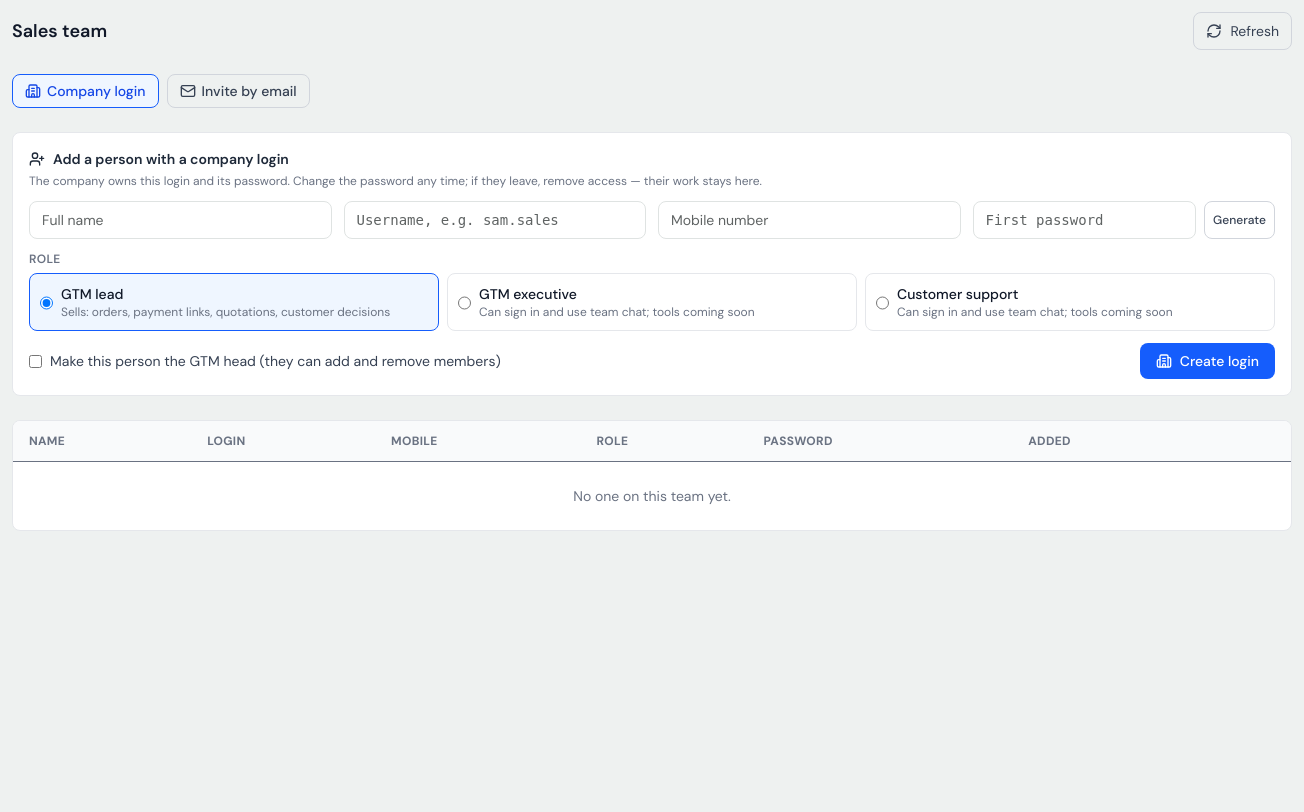
Test: company logins › creates one by default and shows the sign-in details once
The width and height of the screenshot is (1304, 812).
In the field labelled "Full name": [180, 220] box 29,201 -> 332,239, type "Sam Kumar"
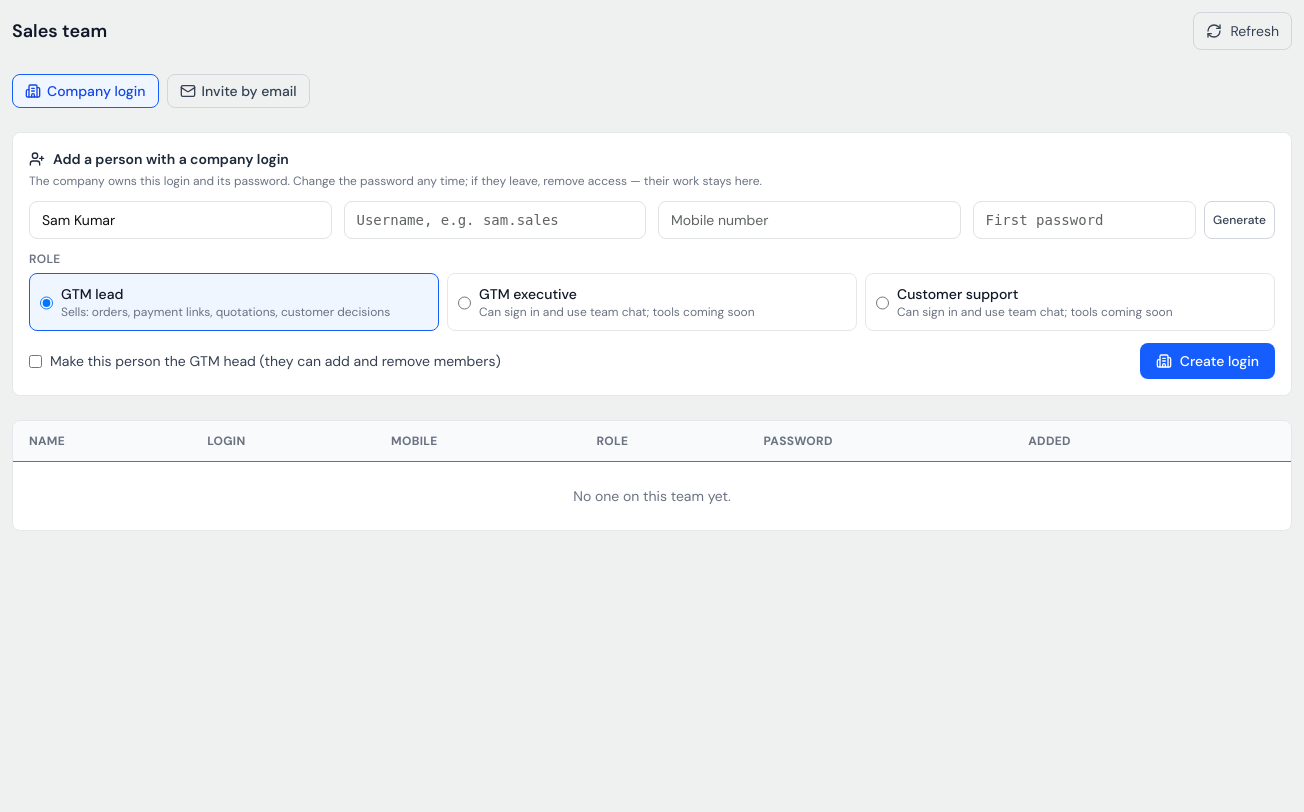
In the field labelled "Username": [495, 220] box 344,201 -> 646,239, type "Sam Sales"
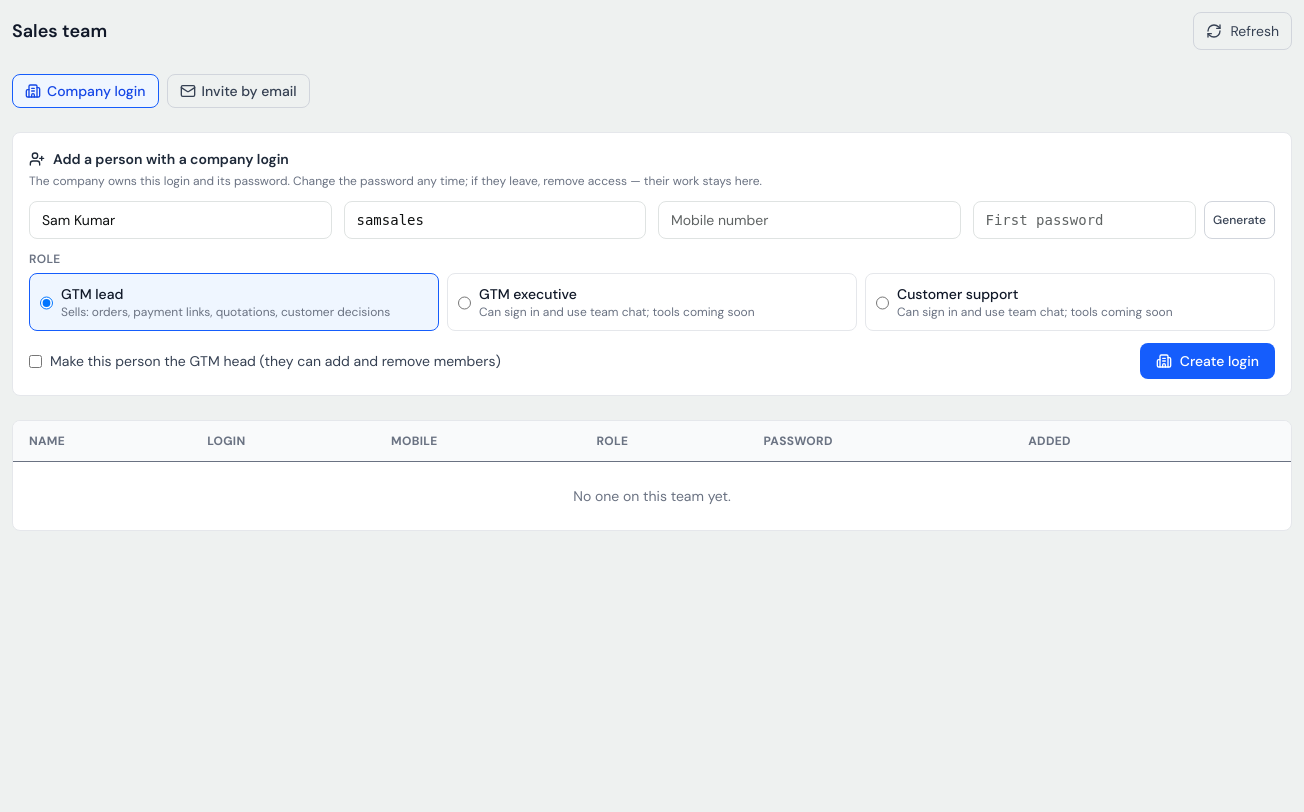
In the field labelled "Mobile number": [809, 220] box 658,201 -> 960,239, type "9876543210"
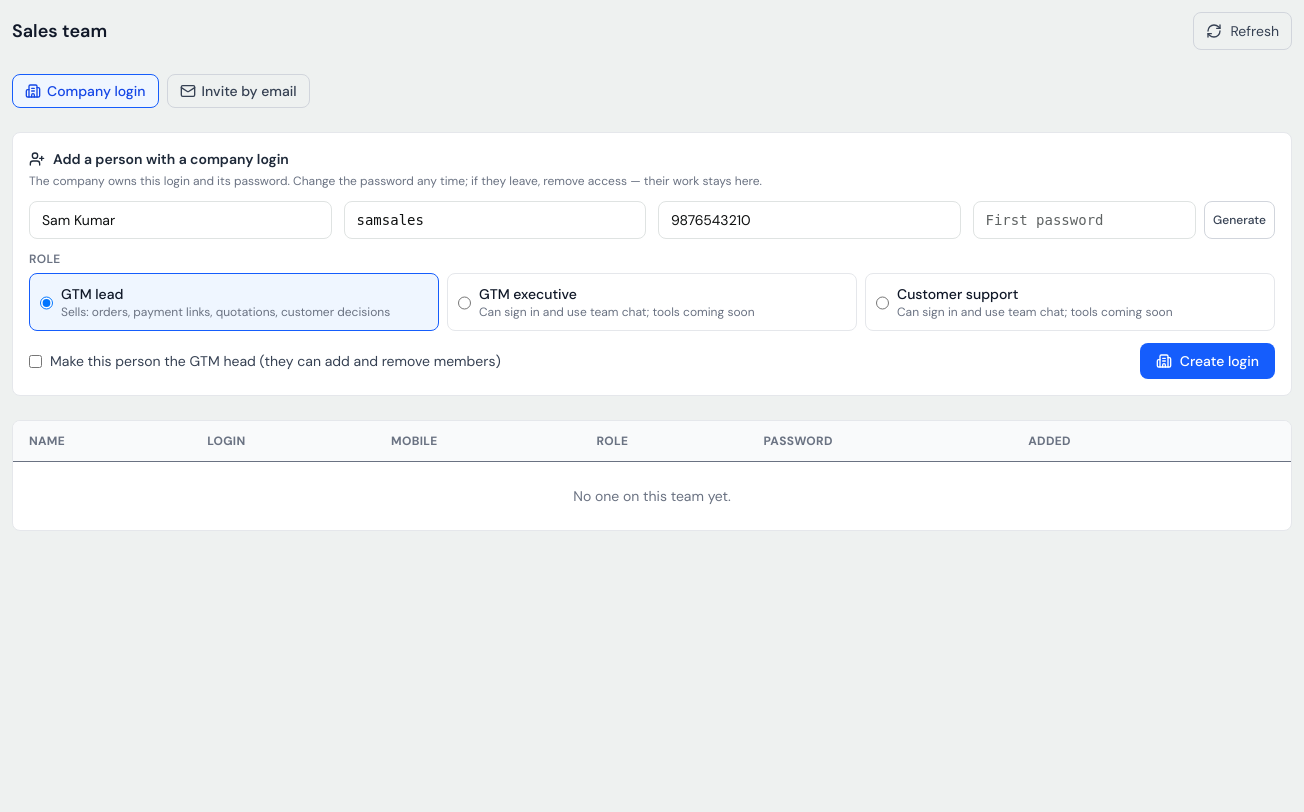
In the field labelled "First password": [1084, 220] box 972,201 -> 1196,239, type "Temporary#2026"
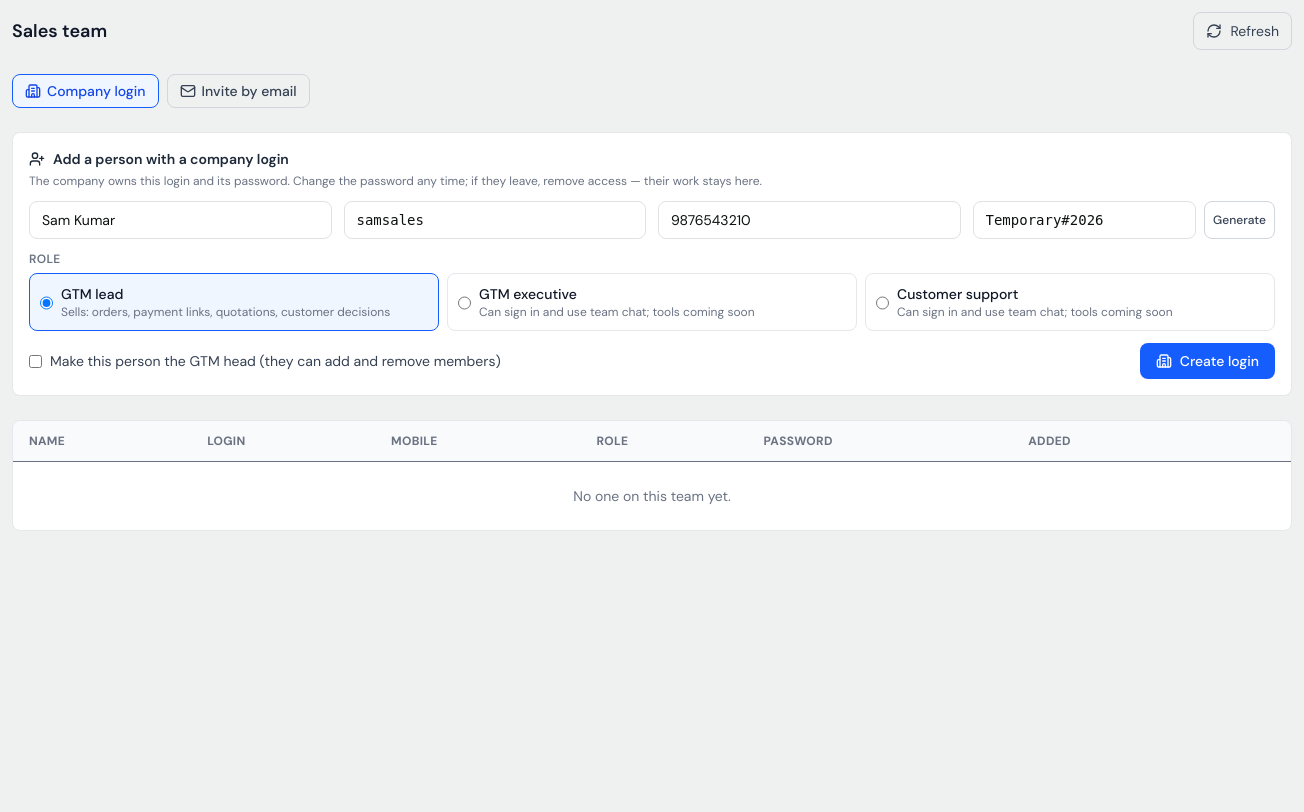
Click the button "Create login": [1207, 361] box 1140,343 -> 1275,379
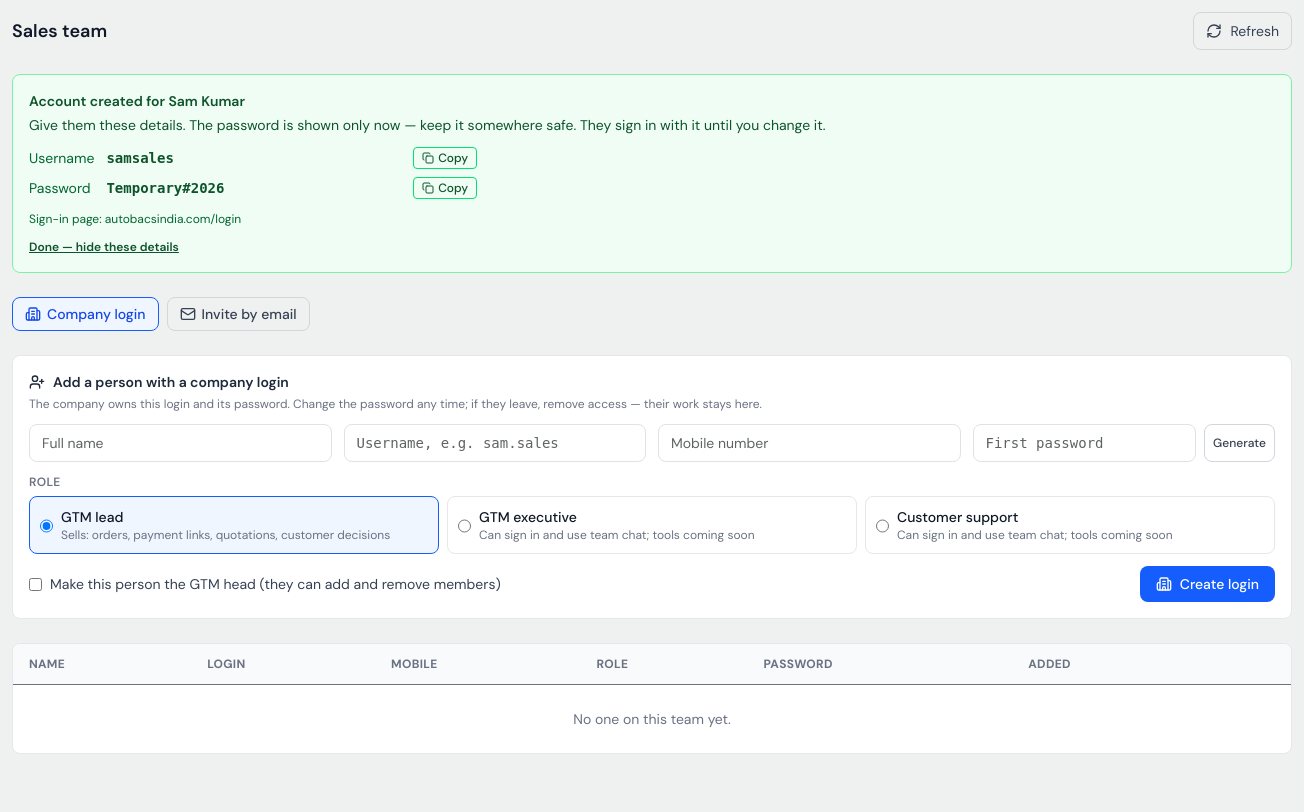
Now the message shows "Account created for Sam Kumar", box 29,92 -> 245,110
Now the message shows "samsales", box 106,150 -> 174,166
Now the message shows "Temporary#2026", box 106,180 -> 224,196
Click the button "Done — hide these details": [104, 247] box 29,239 -> 179,255
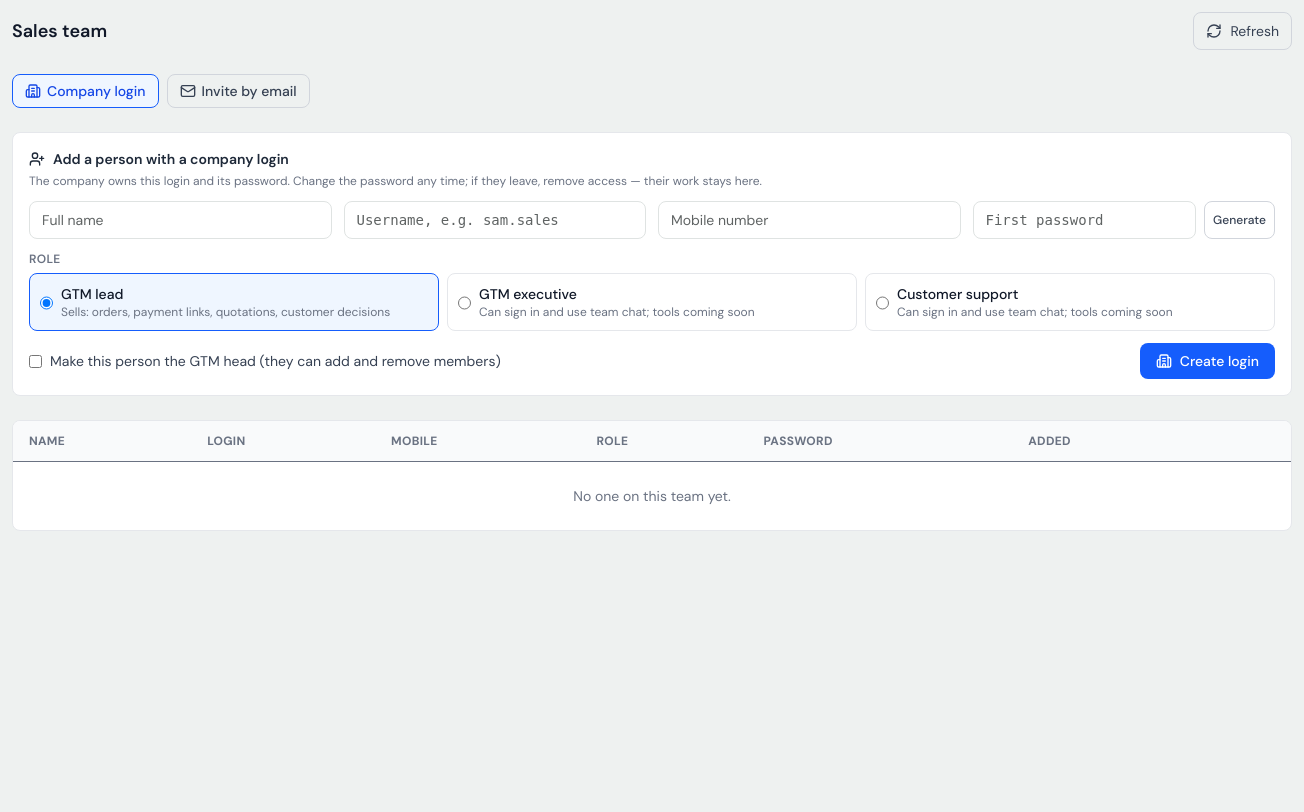
Now the text "Temporary#2026" is gone
